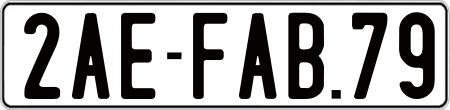2: (22, 12, 58, 101)
7: (352, 12, 390, 103)
9: (397, 11, 432, 101)
A: (239, 12, 283, 104), (71, 10, 114, 98)
B: (288, 11, 328, 101)
E: (120, 11, 155, 102)
F: (193, 12, 230, 99)
